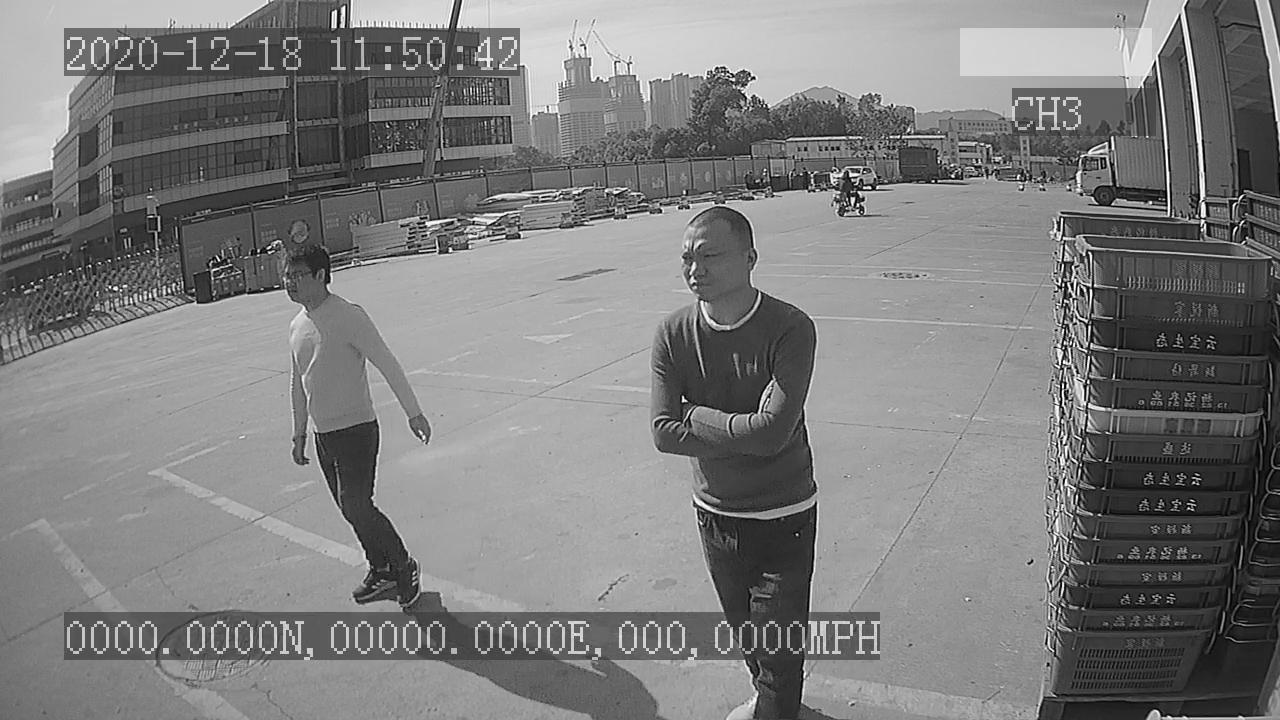person: (272, 236, 443, 608)
